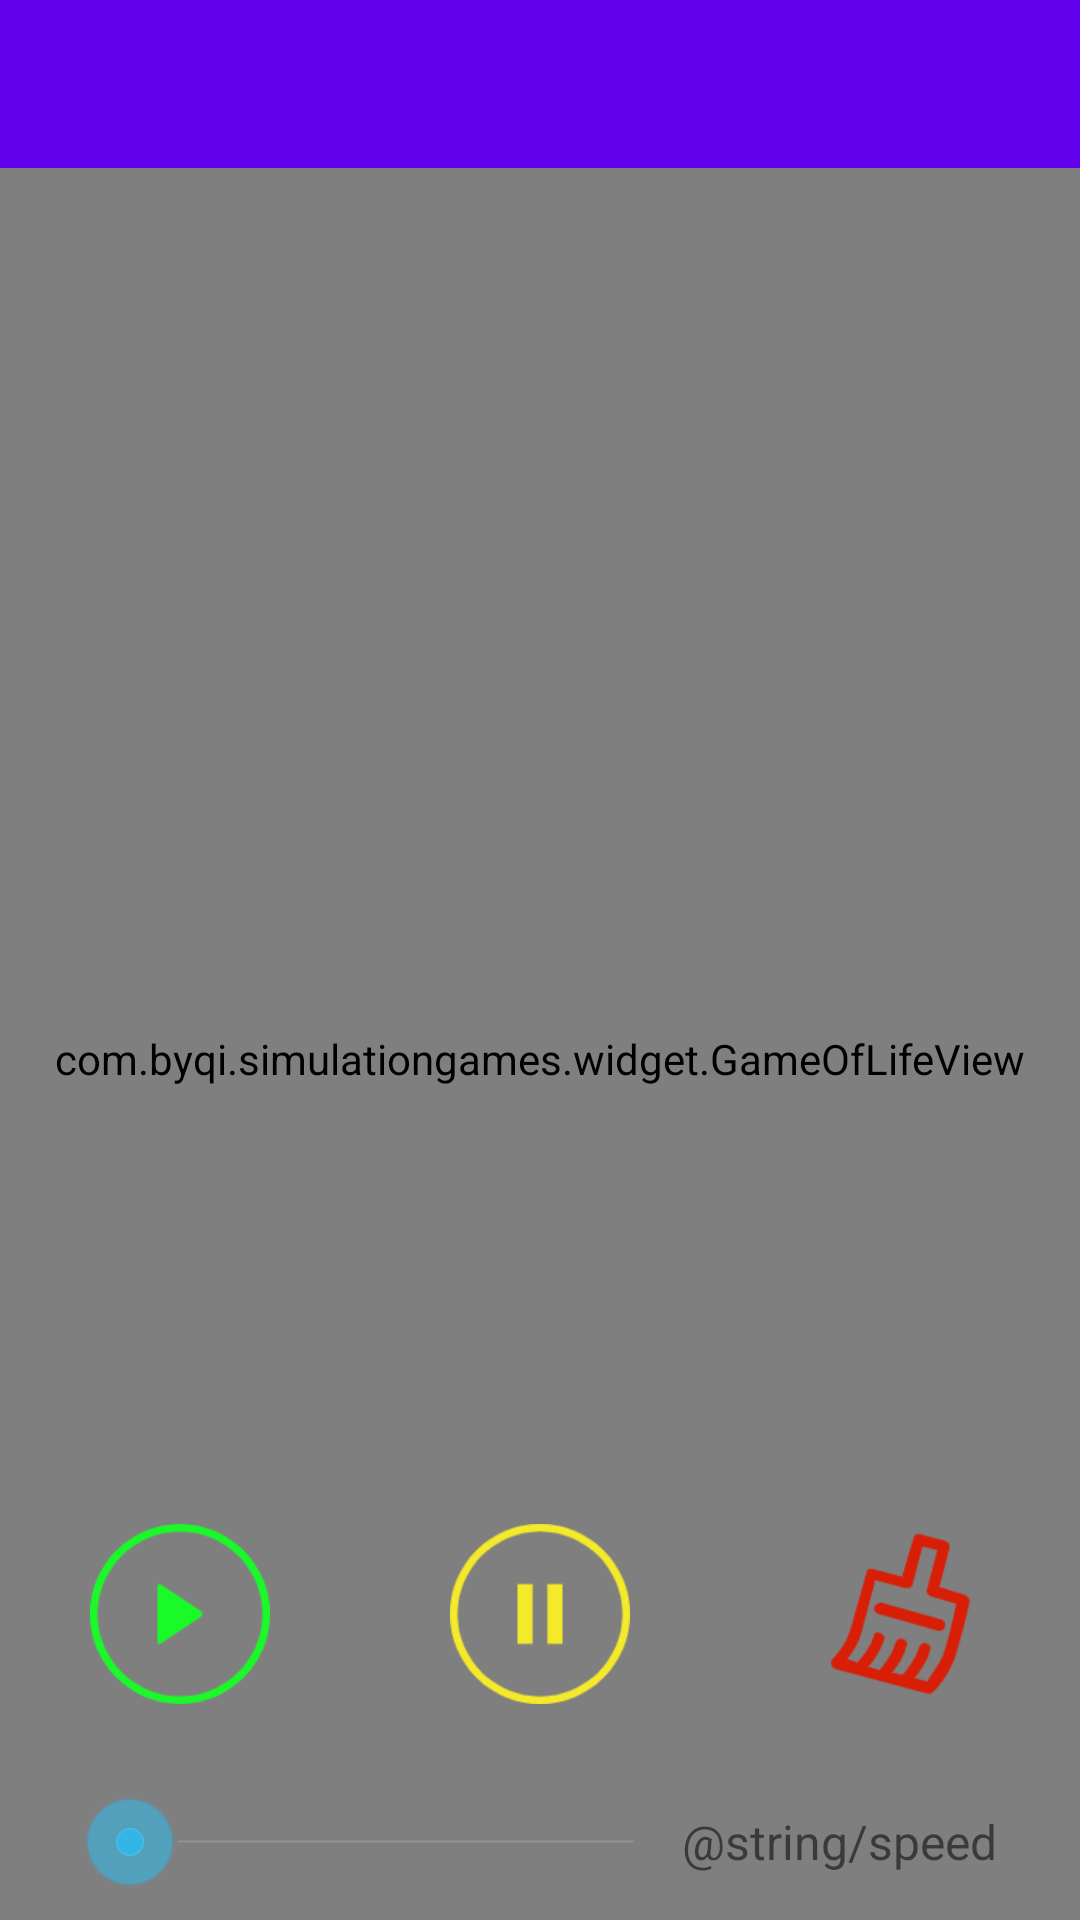

Screen size 1080×1920. Icon name, then its center in pixels as [x,y]:
clear: [900,1614]
pause: [540,1614]
start: [180,1614]
